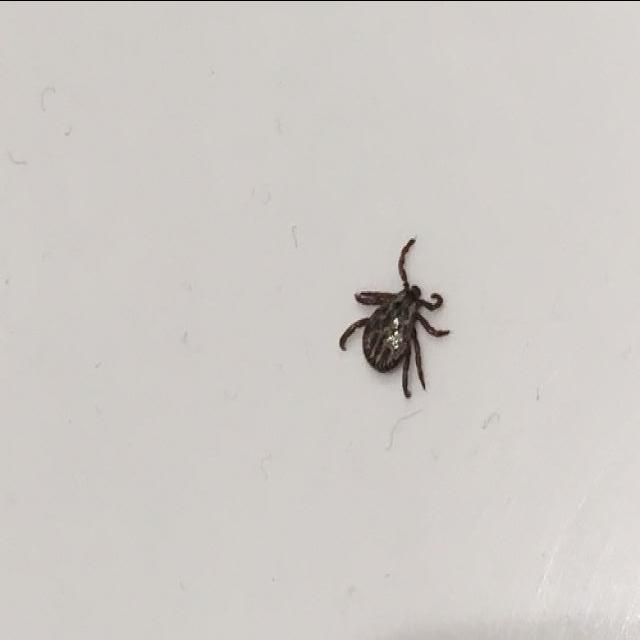Dermacentor Reticulatus-M: (339, 236, 454, 401)
